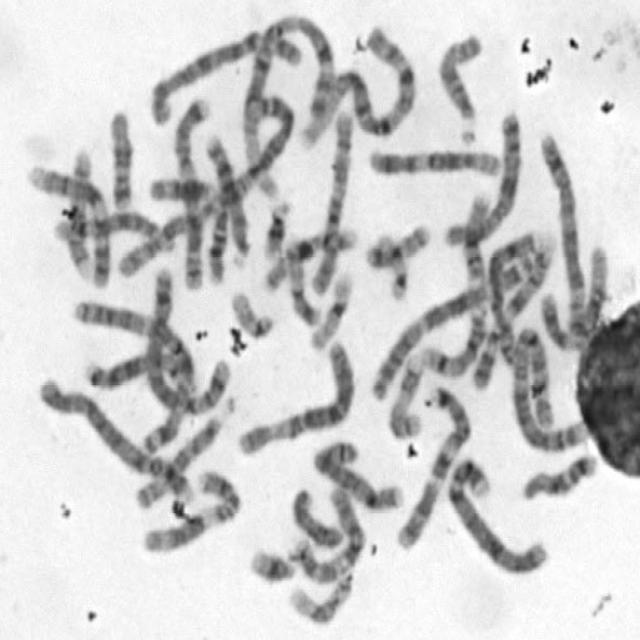A1: (236, 7, 340, 209), (294, 22, 418, 149)
A2: (115, 89, 297, 281), (506, 319, 589, 456)
A3: (358, 248, 541, 402), (68, 292, 200, 462)
B4: (34, 370, 198, 507), (440, 450, 550, 578)
B5: (142, 266, 235, 418), (534, 124, 593, 343)
C10: (308, 103, 357, 299), (286, 483, 367, 586)
C11: (136, 461, 245, 557), (144, 170, 226, 270)
C12: (536, 238, 610, 351), (363, 140, 506, 180)
C6: (144, 24, 308, 126), (233, 333, 360, 457)
C7: (392, 376, 475, 552), (170, 86, 213, 294)
C8: (484, 223, 540, 367), (308, 436, 406, 512)
C9: (469, 226, 557, 395), (23, 154, 114, 291)
D13: (200, 125, 254, 270), (78, 344, 196, 394)
D14: (49, 204, 174, 256), (414, 296, 489, 378)
D15: (128, 409, 229, 512), (432, 25, 486, 147)
E16: (260, 220, 361, 295), (457, 184, 493, 285)
E17: (65, 147, 100, 278), (387, 347, 428, 440)
E18: (516, 448, 599, 502), (104, 102, 136, 212)
F19: (304, 263, 356, 351), (283, 568, 356, 628)
F20: (280, 232, 324, 328), (360, 216, 434, 271)
G21: (258, 191, 295, 263), (245, 539, 299, 585)
G22: (370, 227, 410, 302), (226, 283, 276, 340)
X: (438, 105, 525, 249)
Y: (287, 482, 345, 550)
